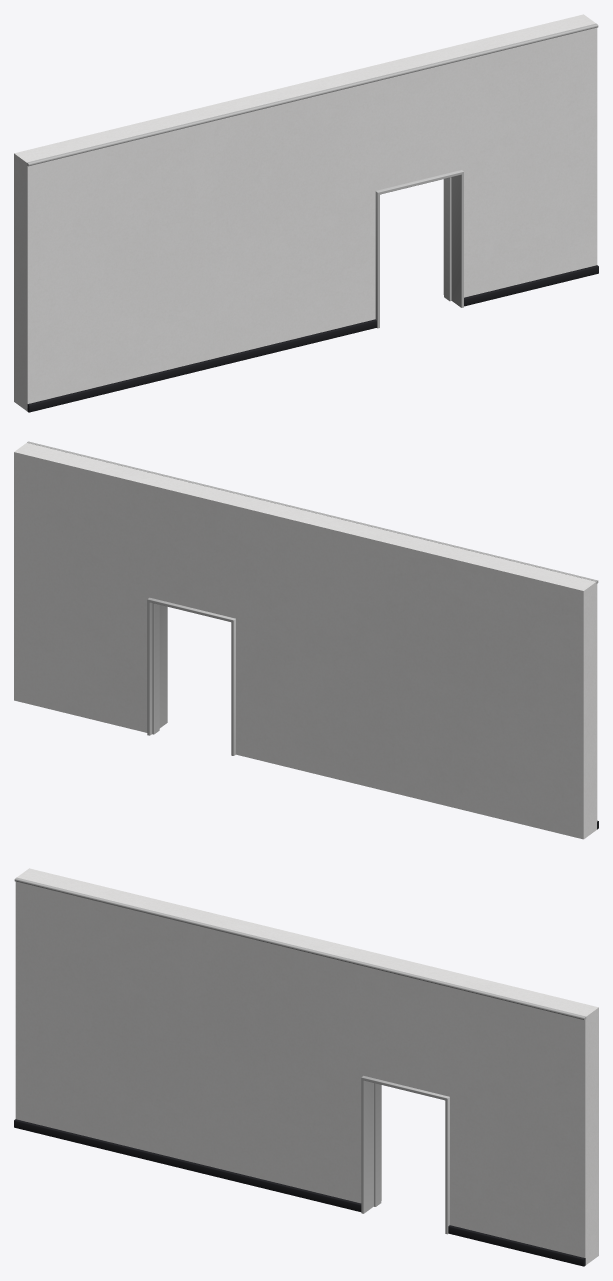
Rendered from Wall_E.fbx.
3 renders of one model, top to bottom at view 1: azimuth 30°, elevation 25°; view 2: azimuth 150°, elevation 25°; view 3: azimuth 330°, elevation 25°, orthographic.
Parts seen in each view (by area): view 1: Wall_E; view 2: Wall_E; view 3: Wall_E.
Boxes of the visible parts, x1,y1,x2,y2 form: Wall_E: (14,14,598,412); Wall_E: (14,441,598,839); Wall_E: (14,868,598,1266).
Size of the model in its own units: 12 by 5 by 0.6567.
